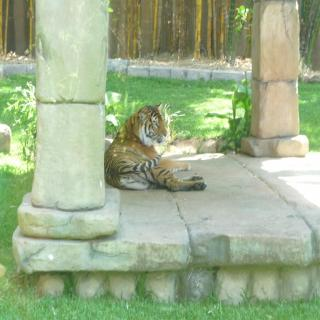Tiger: (104, 101, 206, 192)
